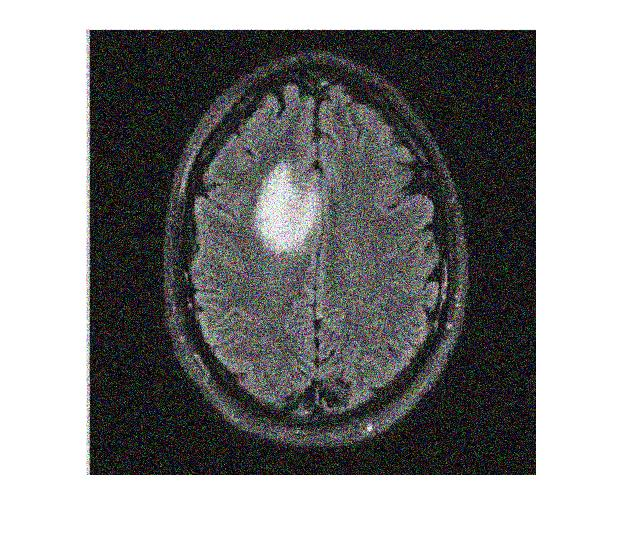Brain_Cancer: (247, 157, 327, 255)
